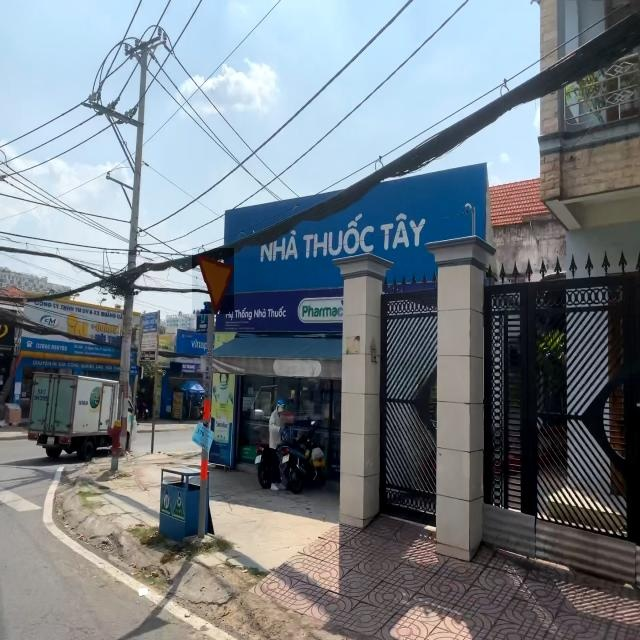bien_nguy_hiem: (192, 248, 234, 314)
